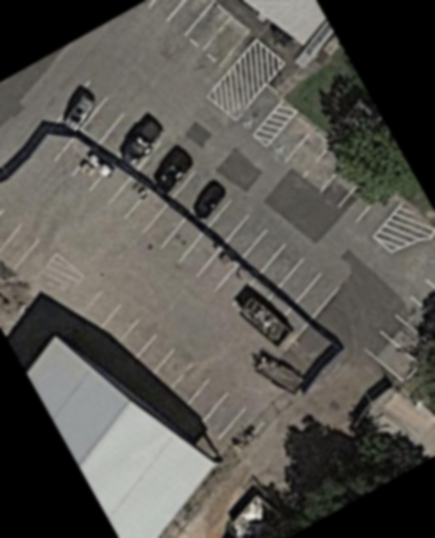parkingspot: (50, 79, 344, 324), (69, 286, 268, 460), (85, 163, 260, 310), (265, 112, 405, 241), (361, 263, 435, 385), (140, 0, 255, 74), (0, 202, 60, 290), (232, 83, 286, 139), (78, 134, 82, 137)
